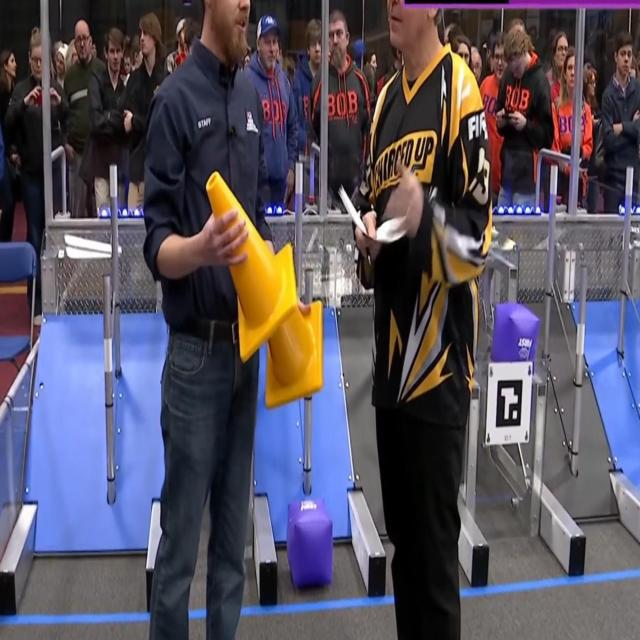frc_cone: (205, 168, 300, 364), (259, 296, 323, 410)
frc_cube: (286, 498, 334, 588), (491, 301, 538, 369)
